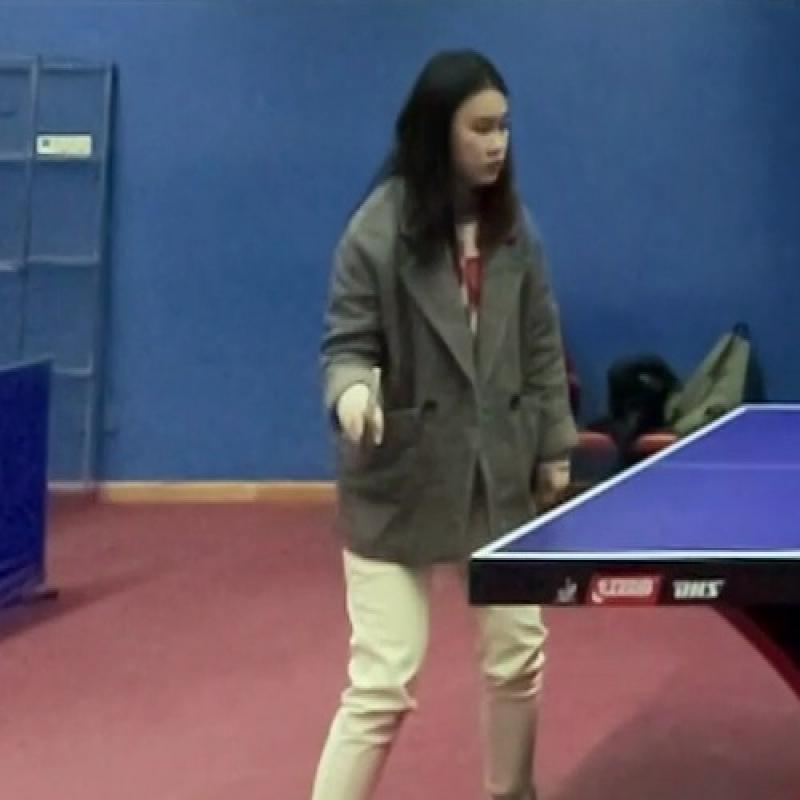bats: (323, 350, 414, 466)
